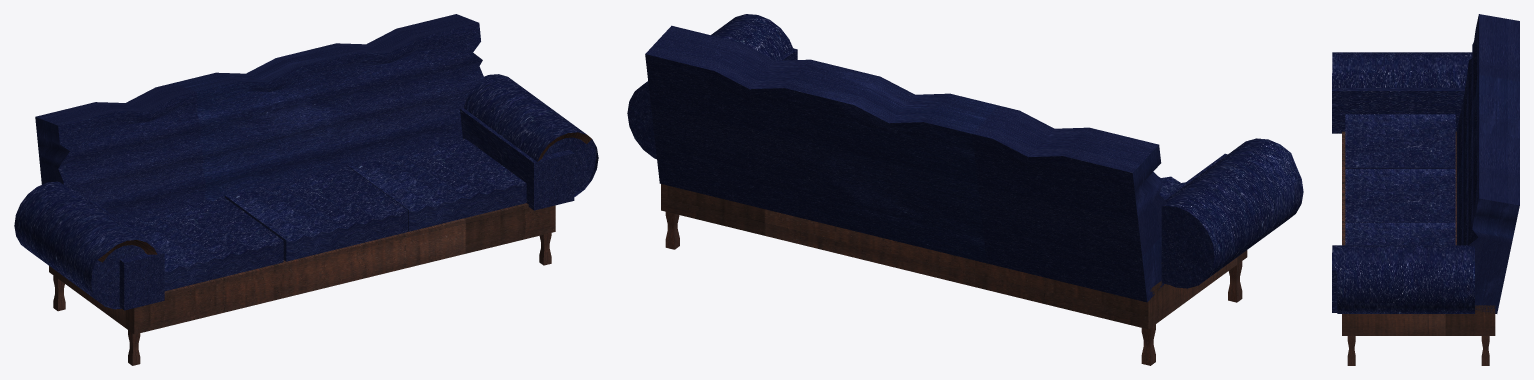
The model's file is sofa.fbx.
3 renders of one model, left to right at view 1: azimuth 30°, elevation 25°; view 2: azimuth 150°, elevation 25°; view 3: azimuth 270°, elevation 25°, orthographic. The views are drawn at different scales.
Visible parts, largest first — view 1: pCube6, pCube1, pCube13, pCube12, pCylinder2, pCube10, pCylinder1, pCube7, pCube8; view 2: pCube6, pCube1, pCylinder2, pCylinder1; view 3: pCube6, pCylinder1, pCube10, pCube13, pCylinder2, pCube1, pCube8, pCube12, pCube7, pCube3, pCube4.
Part boxes in pixels (x1=…): pCube6: x1=35, y1=14, x2=484, y2=222; pCube1: x1=49, y1=203, x2=555, y2=334; pCube13: x1=224, y1=165, x2=408, y2=261; pCube12: x1=347, y1=138, x2=526, y2=231; pCylinder2: x1=14, y1=181, x2=157, y2=309; pCube10: x1=122, y1=196, x2=283, y2=291; pCylinder1: x1=463, y1=74, x2=598, y2=196; pCube7: x1=460, y1=108, x2=574, y2=210; pCube8: x1=88, y1=199, x2=164, y2=310; pCube6: x1=645, y1=25, x2=1165, y2=302; pCube1: x1=661, y1=184, x2=1247, y2=329; pCylinder2: x1=1161, y1=138, x2=1303, y2=288; pCylinder1: x1=627, y1=14, x2=793, y2=159; pCube6: x1=1456, y1=14, x2=1519, y2=313; pCylinder1: x1=1332, y1=245, x2=1474, y2=313; pCube10: x1=1345, y1=114, x2=1455, y2=168; pCube13: x1=1345, y1=169, x2=1455, y2=222; pCylinder2: x1=1332, y1=52, x2=1472, y2=87; pCube1: x1=1342, y1=131, x2=1495, y2=335; pCube8: x1=1332, y1=73, x2=1464, y2=133; pCube12: x1=1345, y1=222, x2=1455, y2=245; pCube7: x1=1332, y1=253, x2=1337, y2=312; pCube3: x1=1347, y1=336, x2=1355, y2=365; pCube4: x1=1481, y1=336, x2=1489, y2=365.
Size of the model in its own units: 15.21 by 5.36 by 5.43.
